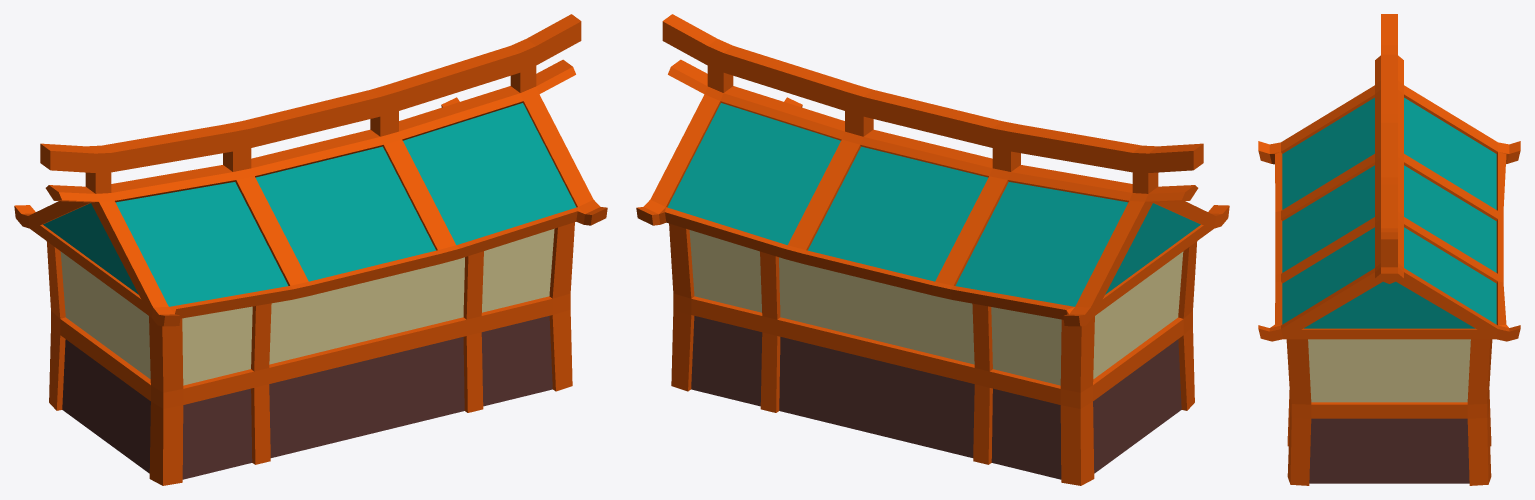
The model's file is GEO_hut_small_2.fbx.
3 renders of one model, left to right at view 1: azimuth 30°, elevation 25°; view 2: azimuth 150°, elevation 25°; view 3: azimuth 270°, elevation 25°, orthographic. The views are drawn at different scales.
Parts seen in each view (by area): view 1: GEO_hut_small_2; view 2: GEO_hut_small_2; view 3: GEO_hut_small_2.
Part boxes in pixels (x1,y1,x2,y2): GEO_hut_small_2: [14, 14, 607, 485]; GEO_hut_small_2: [636, 14, 1229, 485]; GEO_hut_small_2: [1258, 14, 1520, 485].
Bounding box in the file's own units: 873 × 490 × 429.
